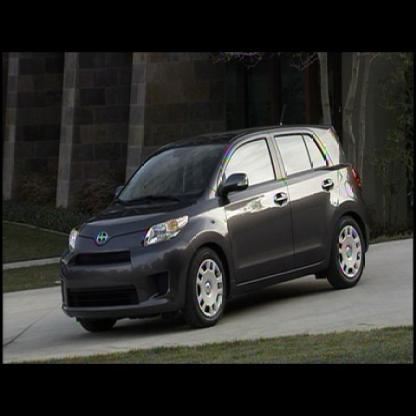Vehicle: (57, 122, 372, 338)
